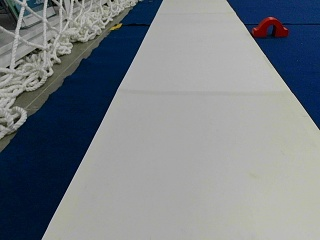bridge: (253, 16, 288, 36)
